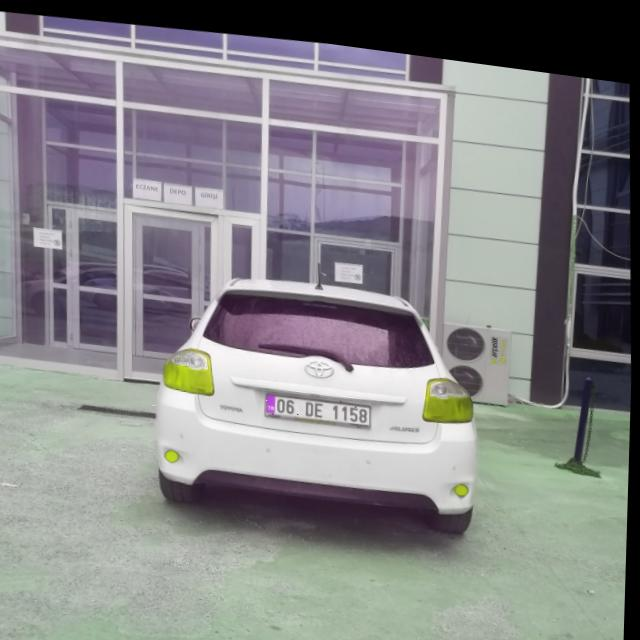license_plate: (267, 380, 374, 418)
